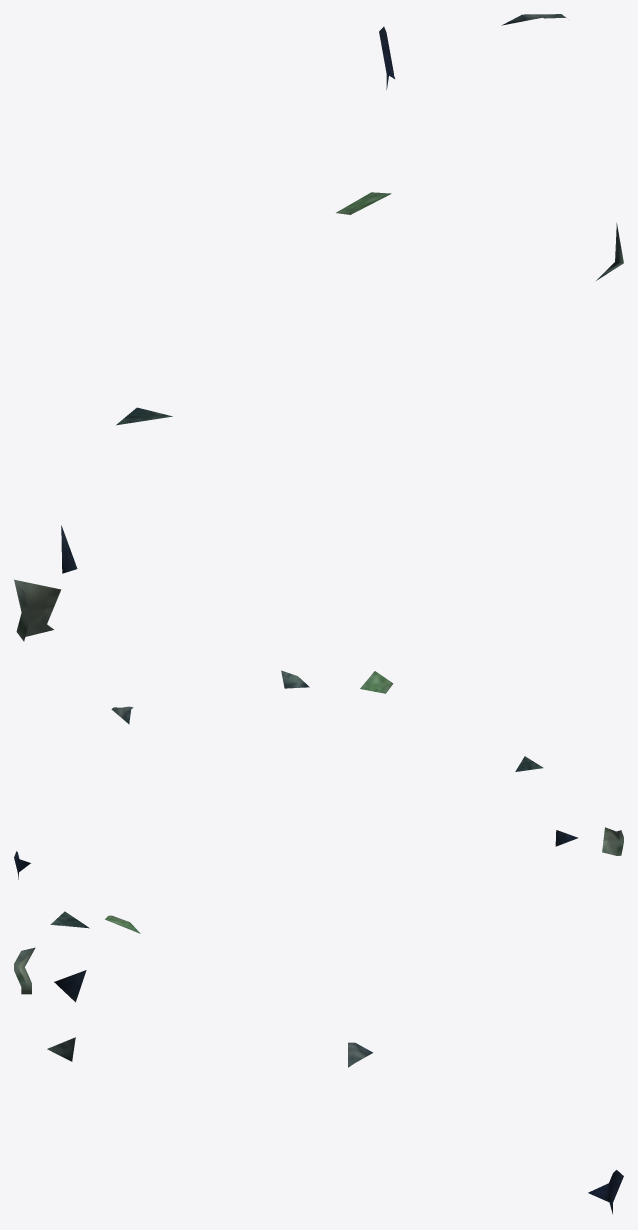
3 renders of one model, top to bottom at view 1: azimuth 30°, elevation 25°; view 2: azimuth 150°, elevation 25°; view 3: azimuth 270°, elevation 25°, orthographic. The views are drawn at different scales.
Visible parts, largest first — view 1: 30436272704361536705_1; view 2: 30436272704361536705_1; view 3: 30436272704361536705_1.
Part boxes in pixels (left/top/right/bottom): 30436272704361536705_1: left=14, top=14, right=623, bottom=641; 30436272704361536705_1: left=14, top=670, right=623, bottom=879; 30436272704361536705_1: left=14, top=911, right=623, bottom=1214.
Bounding box in the file's own units: 27.31 × 10.17 × 25.92.
1 material, 1 textured.
